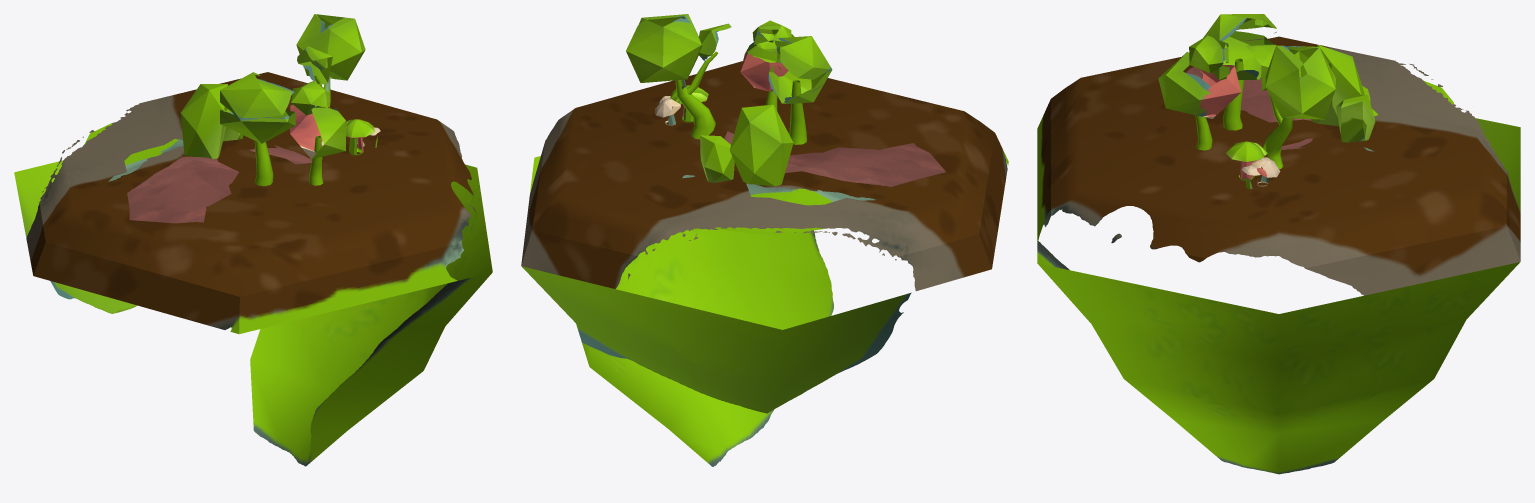
File: islet-3.fbx
The picture shows the model from 3 angles, left to right: view 1: azimuth 30°, elevation 25°; view 2: azimuth 150°, elevation 25°; view 3: azimuth 270°, elevation 25°; orthographic projection. The views are drawn at different scales.
Parts seen in each view (by area): view 1: polySurface571; view 2: polySurface571; view 3: polySurface571.
Part boxes in pixels (x1,y1,x2,y2): polySurface571: [14, 14, 492, 466]; polySurface571: [521, 14, 1008, 466]; polySurface571: [1037, 14, 1520, 474].
Size of the model in its own units: 11.53 by 10.9 by 9.99.
